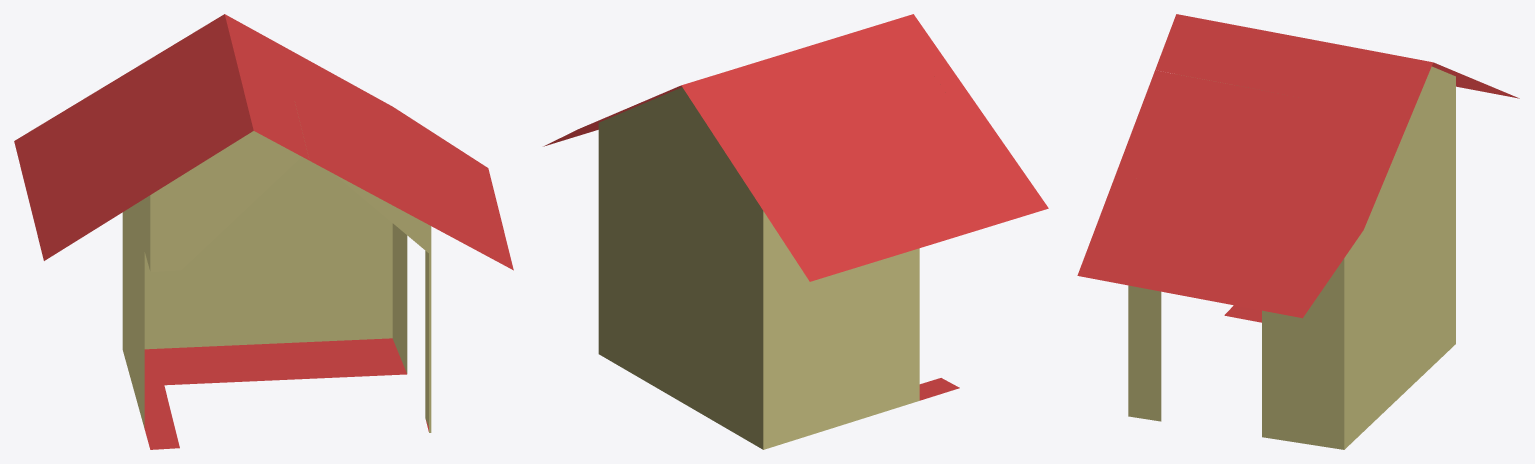
3 renders of one model, left to right at view 1: azimuth 30°, elevation 25°; view 2: azimuth 150°, elevation 25°; view 3: azimuth 270°, elevation 25°, orthographic. The views are drawn at different scales.
Size of the model in its own units: 24.35 by 19.75 by 16.05.
